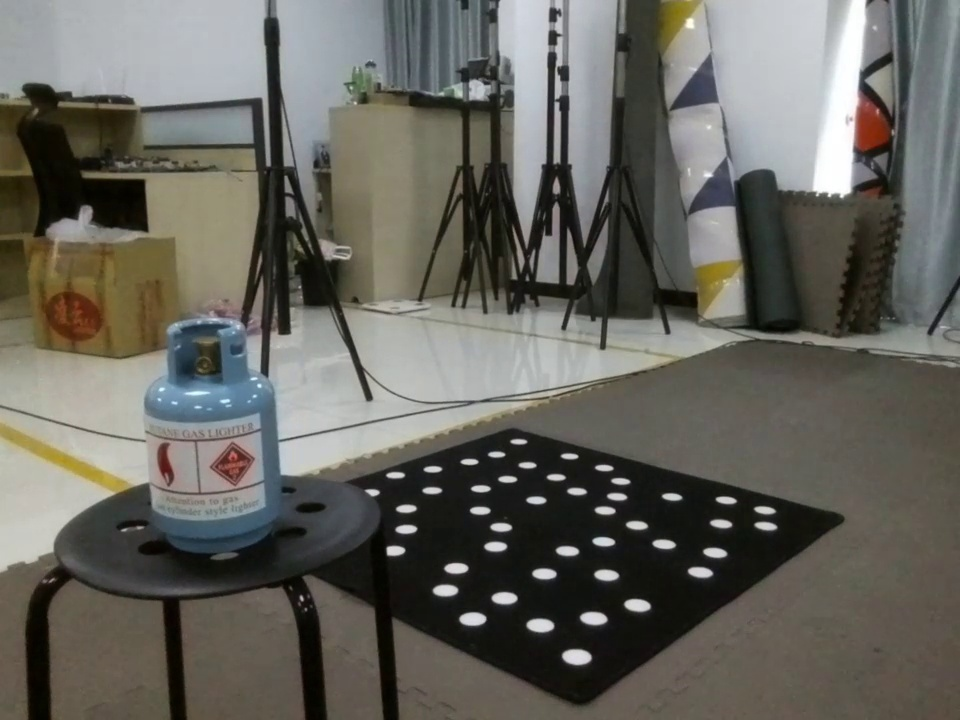gas tank: (116, 307, 320, 567)
